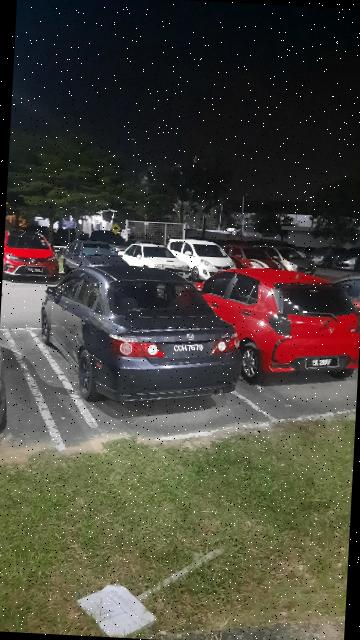License_Plate: (152, 336, 223, 364), (300, 355, 346, 374)
car: (35, 258, 249, 410), (186, 261, 360, 392)
